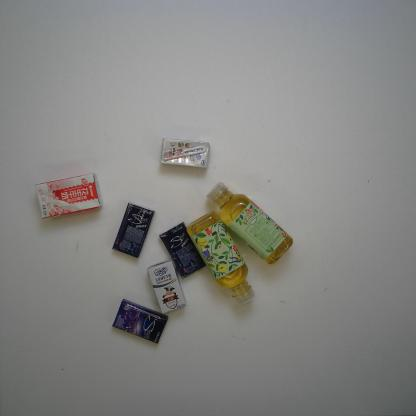Drink: (206, 182, 294, 266), (186, 210, 256, 306)
Gum: (159, 222, 206, 279), (111, 298, 169, 344), (112, 202, 155, 258)
Milk: (34, 172, 102, 219), (147, 259, 187, 314), (160, 138, 210, 169)
